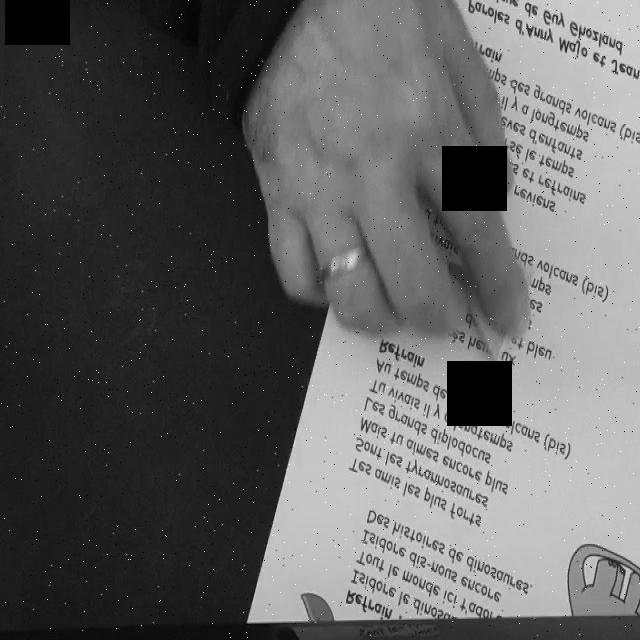triangle: (454, 263, 532, 366)
